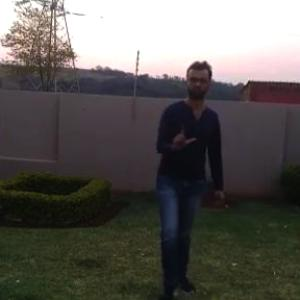land_hand: (164, 116, 200, 153)
